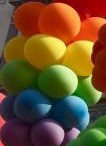Balloon: (37, 4, 80, 39), (25, 37, 67, 66), (38, 67, 78, 97), (1, 59, 37, 89), (51, 97, 86, 127), (14, 90, 50, 119), (30, 119, 64, 146)
